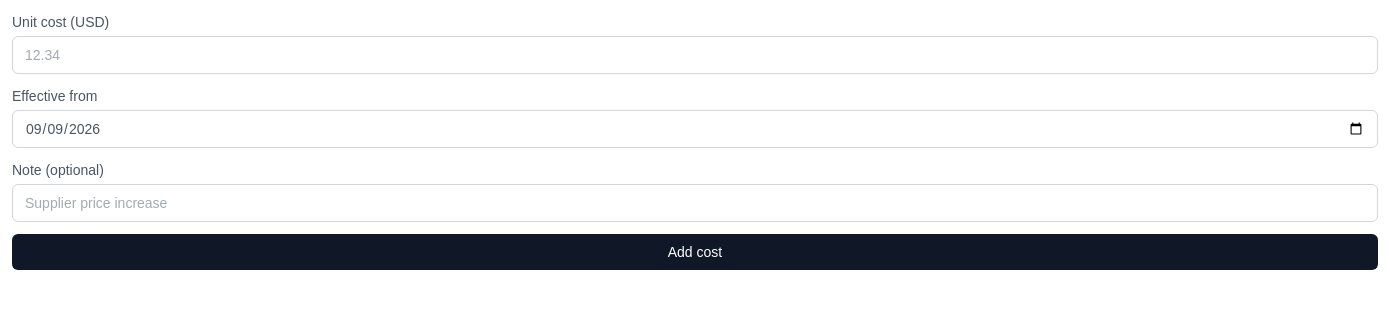
Scenario: VariantCostForm › blocks submit with an inline error when the cost is empty
The width and height of the screenshot is (1390, 320).
Click the button "Add cost" at (695, 252), box [12,234,1378,270]
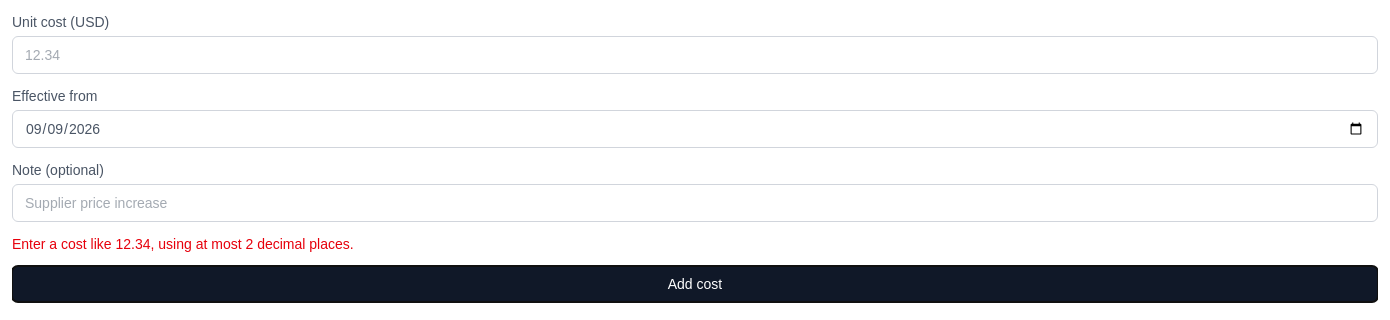
expect the text "Enter a cost like 12.34, using at most 2 decimal places." is shown: met, box [12,236,354,252]
